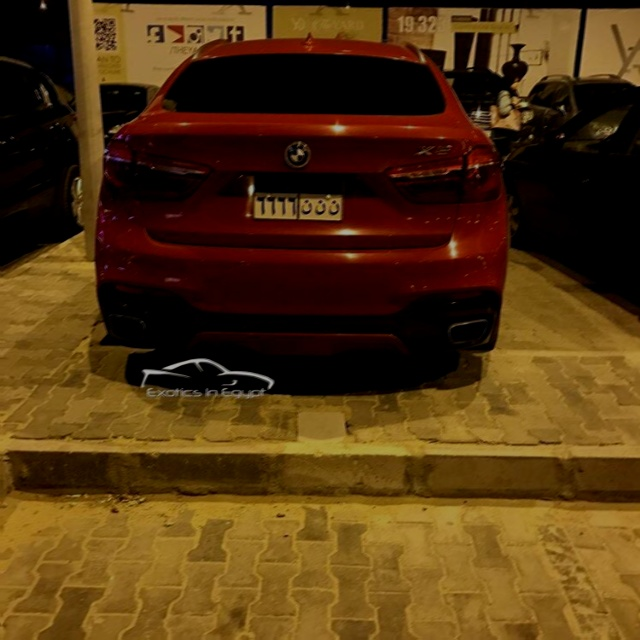License Plate: (251, 174, 345, 224)
